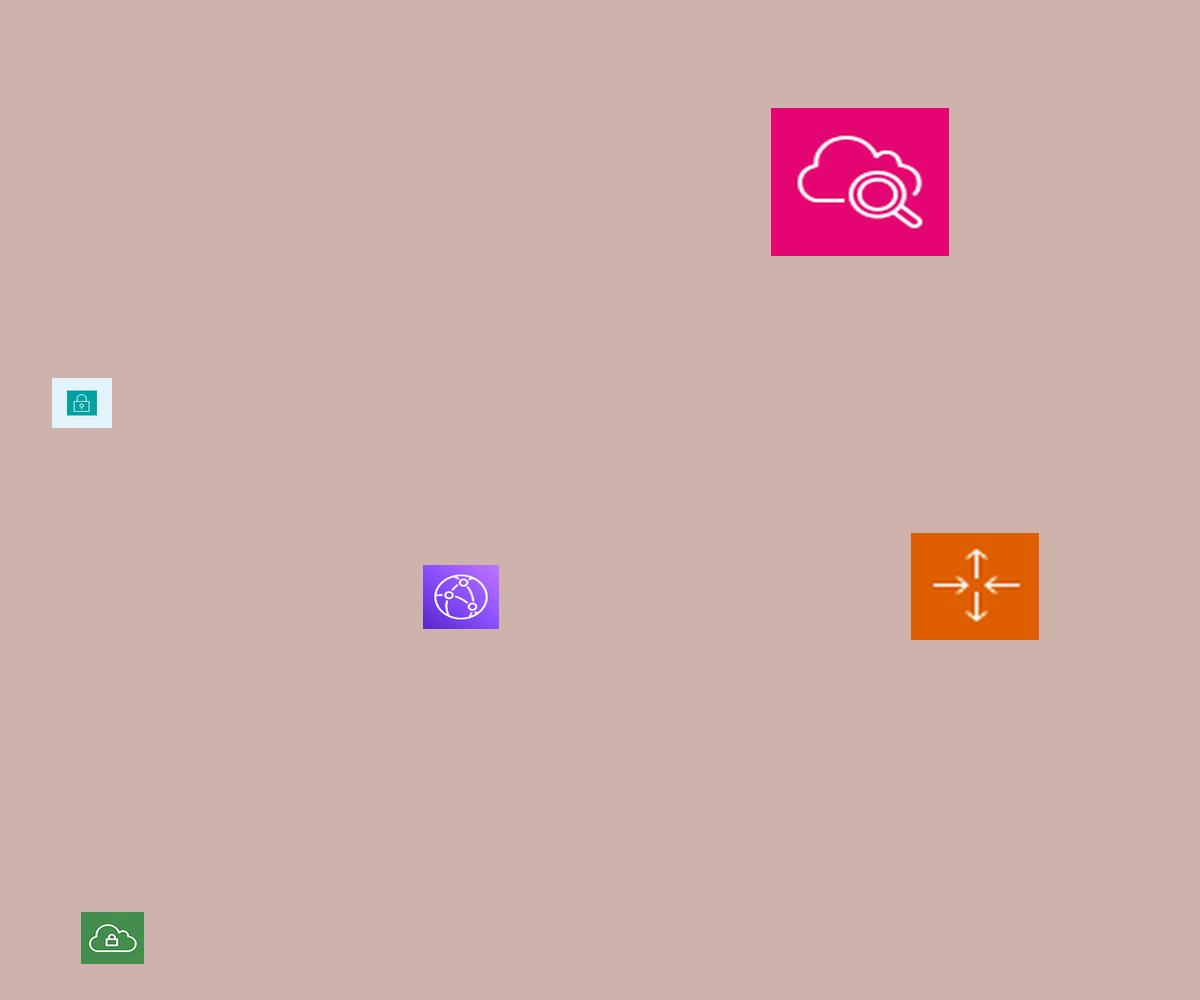AWS-CloudFront: (423, 565, 499, 629)
AWS-CloudWatch: (771, 108, 949, 256)
AWS-Private-subnet: (52, 378, 112, 428)
AWS-Private_vpc: (81, 912, 144, 964)
AWS-Scaling-group: (911, 533, 1039, 640)
